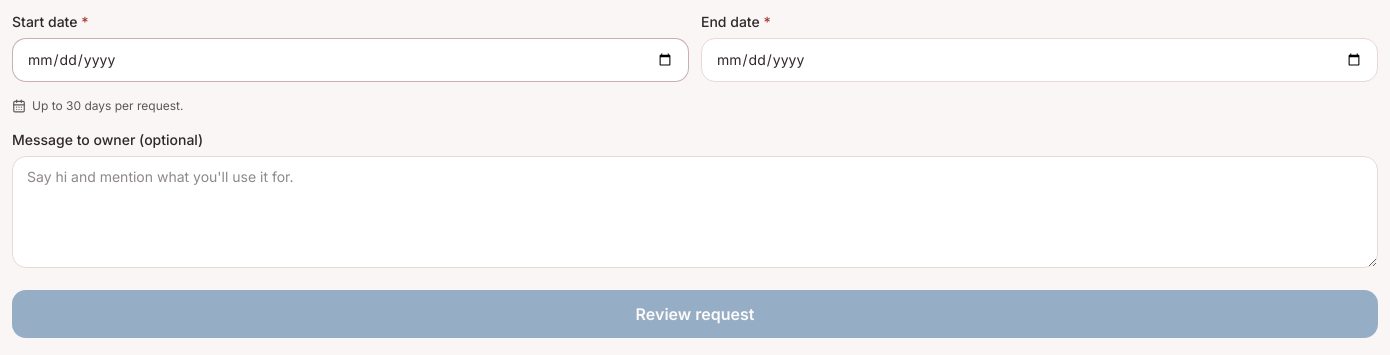
Test: BorrowRequestForm › enables review for a free range and shows a summary step
In the date field labelled "Start date *": [350, 60] box x1=12 y1=38 x2=689 y2=82, type "2030-06-01"
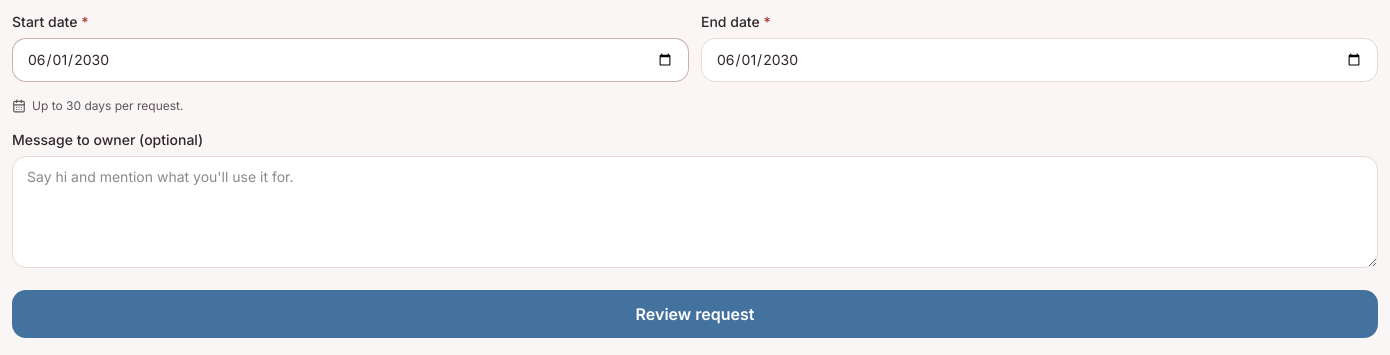
In the date field labelled "End date *": [1040, 60] box x1=701 y1=38 x2=1378 y2=82, type "2030-06-03"
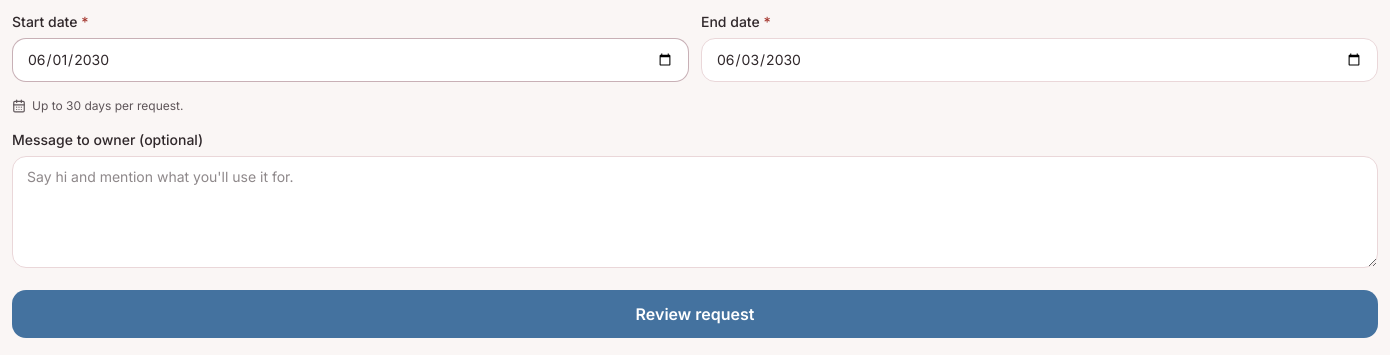
Click the button "Review request": [695, 314] box x1=12 y1=290 x2=1378 y2=338
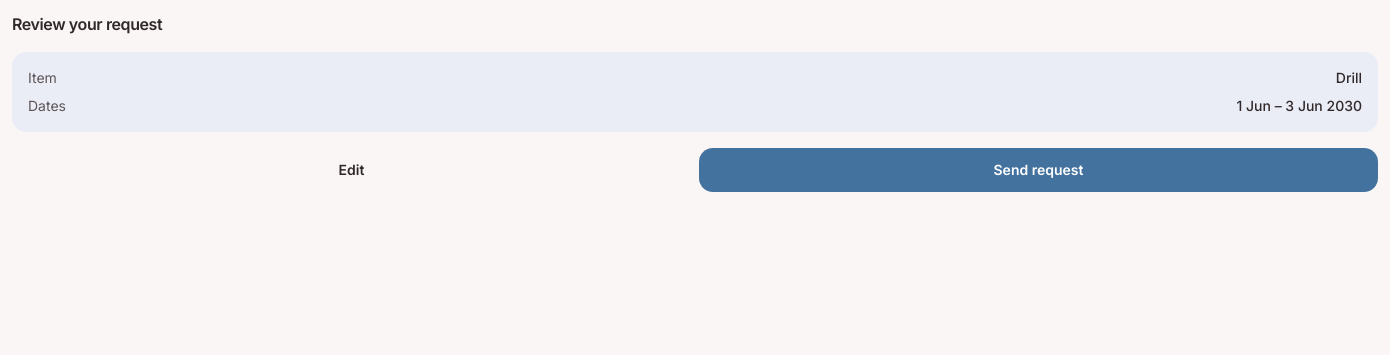
Check: the heading "Review your request" is shown, box x1=12 y1=14 x2=162 y2=34
Check: the button "Send request" is shown, box x1=699 y1=148 x2=1378 y2=192
